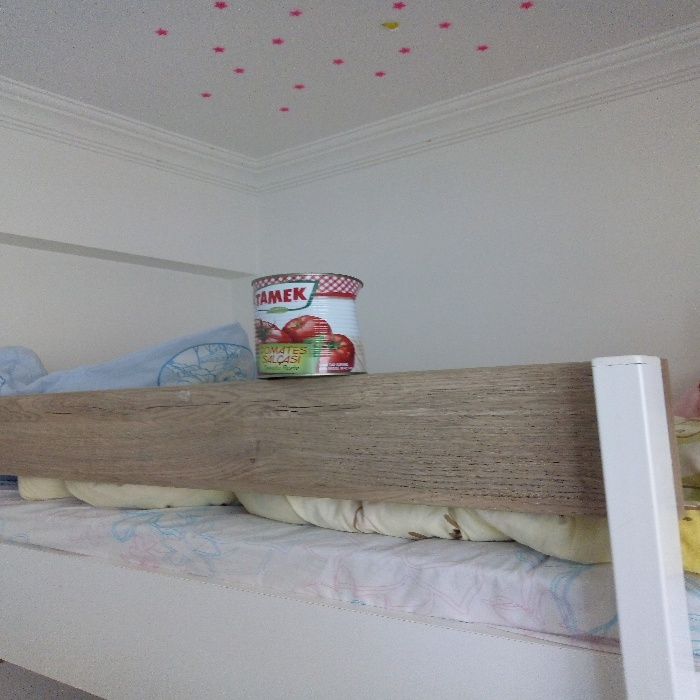salca: (239, 259, 370, 382)
